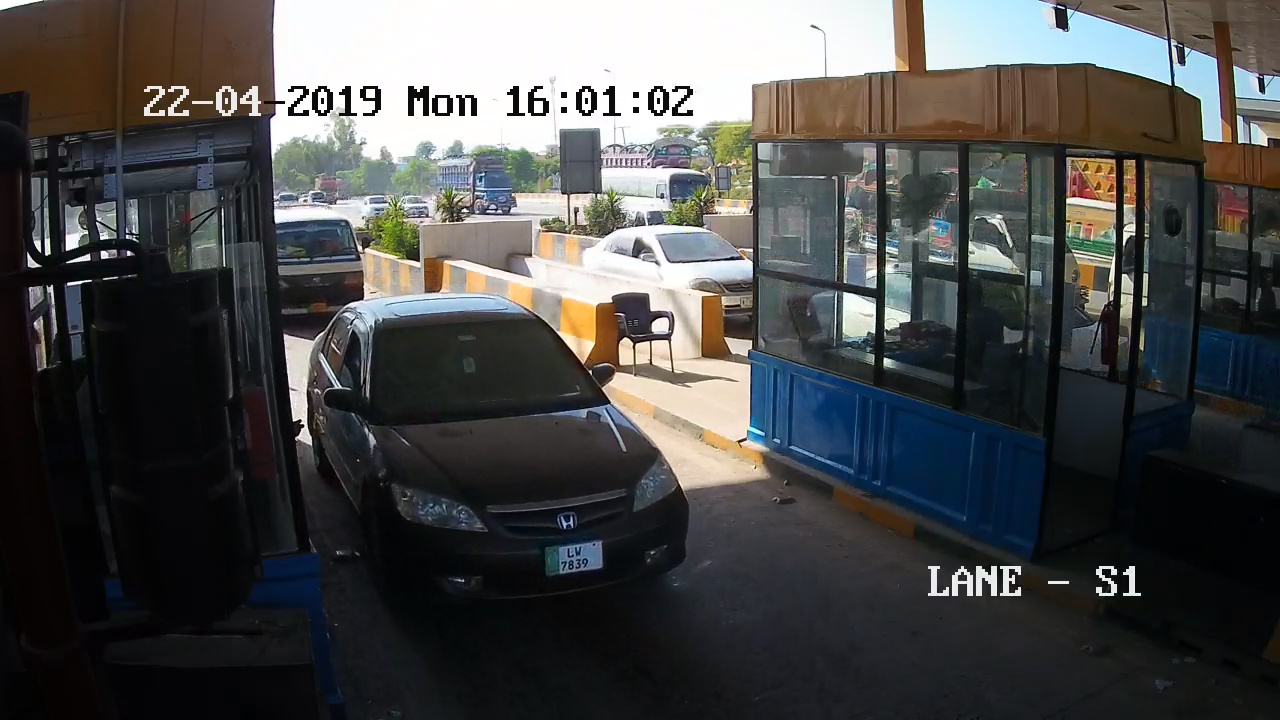car: (303, 309, 714, 598)
